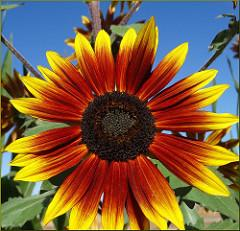sunflower: (7, 22, 240, 231)
